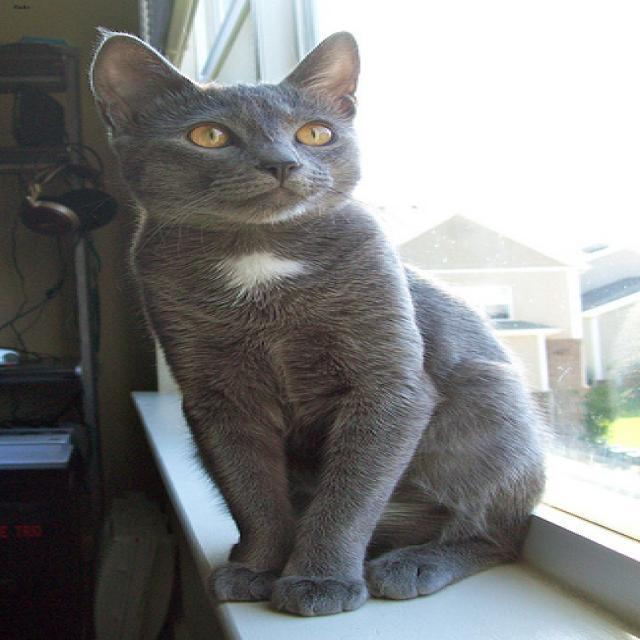Russian_Blue: (87, 30, 355, 218)
